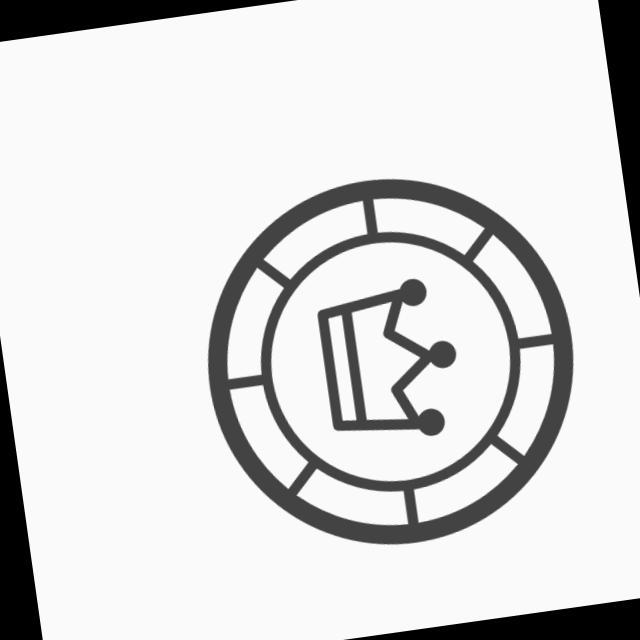coin: (174, 147, 603, 578)
